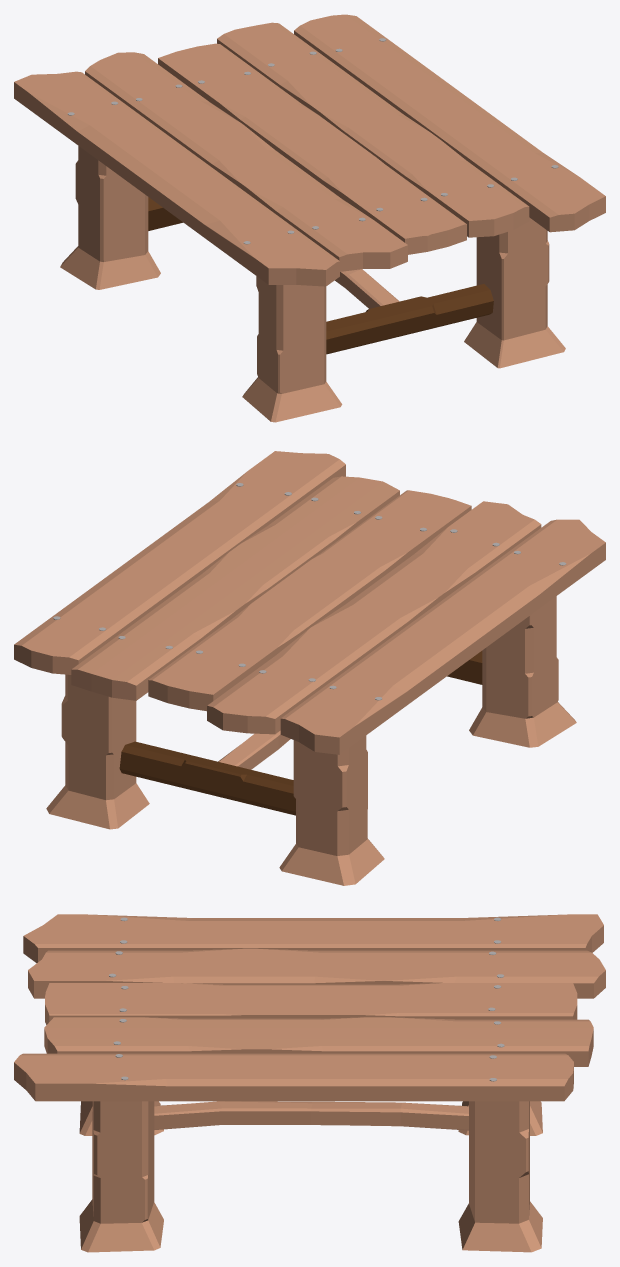
File: Table.fbx
3 views of the same model, one above another, from view 1: azimuth 30°, elevation 25°; view 2: azimuth 150°, elevation 25°; view 3: azimuth 270°, elevation 25° (orthographic). The views are drawn at different scales.
Parts seen in each view (by area): view 1: Cube.004, Cube.018, Cube.016, Cube.017, Cube.014, Cube.015, Cube.005, Cube.013, Cube.006; view 2: Cube.004, Cube.018, Cube.016, Cube.017, Cube.015, Cube.014, Cube.006, Cube.013, Cube.005; view 3: Cube.017, Cube.004, Cube.015, Cube.016, Cube.018, Cube.014, Cube.013.
Boxes of the visible parts, bbox=[...] form: Cube.004: bbox=[60, 146, 565, 422]; Cube.018: bbox=[14, 71, 339, 286]; Cube.016: bbox=[85, 52, 407, 271]; Cube.017: bbox=[294, 14, 605, 232]; Cube.014: bbox=[158, 43, 466, 254]; Cube.015: bbox=[217, 22, 529, 237]; Cube.005: bbox=[326, 284, 493, 354]; Cube.013: bbox=[335, 269, 399, 308]; Cube.006: bbox=[148, 197, 182, 230]; Cube.004: bbox=[46, 596, 576, 885]; Cube.018: bbox=[280, 519, 605, 754]; Cube.016: bbox=[207, 501, 541, 734]; Cube.017: bbox=[14, 451, 345, 674]; Cube.015: bbox=[71, 476, 399, 700]; Cube.014: bbox=[148, 490, 471, 711]; Cube.006: bbox=[119, 741, 295, 815]; Cube.013: bbox=[218, 730, 290, 769]; Cube.005: bbox=[447, 651, 482, 684]; Cube.017: bbox=[14, 1053, 573, 1101]; Cube.004: bbox=[79, 1101, 542, 1252]; Cube.015: bbox=[44, 1017, 593, 1066]; Cube.016: bbox=[28, 948, 605, 998]; Cube.018: bbox=[23, 914, 603, 963]; Cube.014: bbox=[45, 983, 577, 1024]; Cube.013: bbox=[154, 1101, 468, 1130].
Size of the model in its own units: 1053 by 516 by 1558.
